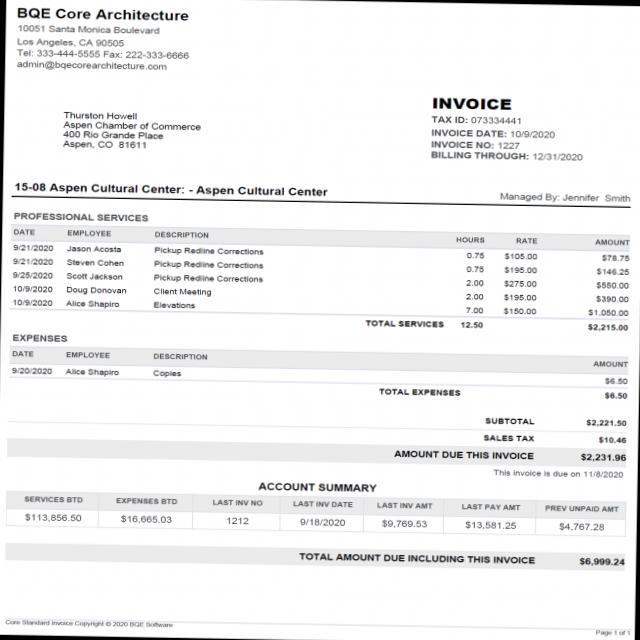customer_address: (59, 119, 204, 154)
customer_name: (60, 107, 142, 121)
due_date: (582, 468, 627, 482)
invoice_date: (509, 129, 561, 140)
invoice_subtotal: (579, 415, 630, 429)
invoice_total: (578, 447, 629, 466)
item_description: (148, 246, 268, 311)
item_quantity: (457, 250, 488, 318)
item_total_price: (587, 250, 634, 319)
item_unit_price: (500, 250, 540, 318)
supplier_address: (16, 22, 167, 49)
supplier_name: (15, 3, 192, 23)
tax_amount: (580, 434, 628, 445)
